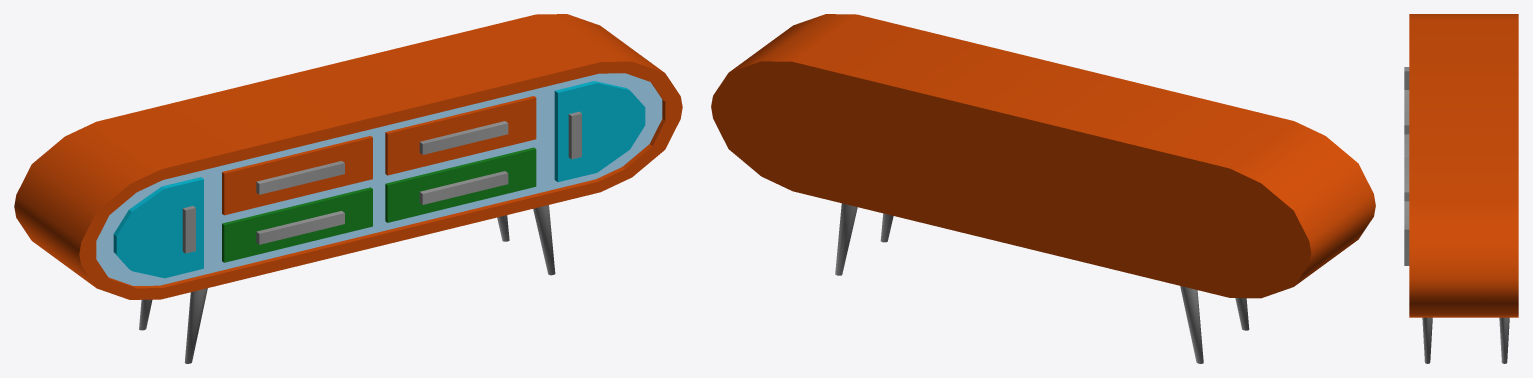
Rendered from ArmarioHack.fbx.
The picture shows the model from 3 angles, left to right: view 1: azimuth 30°, elevation 25°; view 2: azimuth 150°, elevation 25°; view 3: azimuth 270°, elevation 25°; orthographic projection. The views are drawn at different scales.
Parts seen in each view (by area): view 1: ArmarioHack; view 2: ArmarioHack; view 3: ArmarioHack.
Part boxes in pixels (x1,y1,x2,y2): ArmarioHack: (14, 14, 682, 363); ArmarioHack: (711, 14, 1375, 363); ArmarioHack: (1404, 14, 1518, 363).
Size of the model in its own units: 150 by 50 by 29.21.
